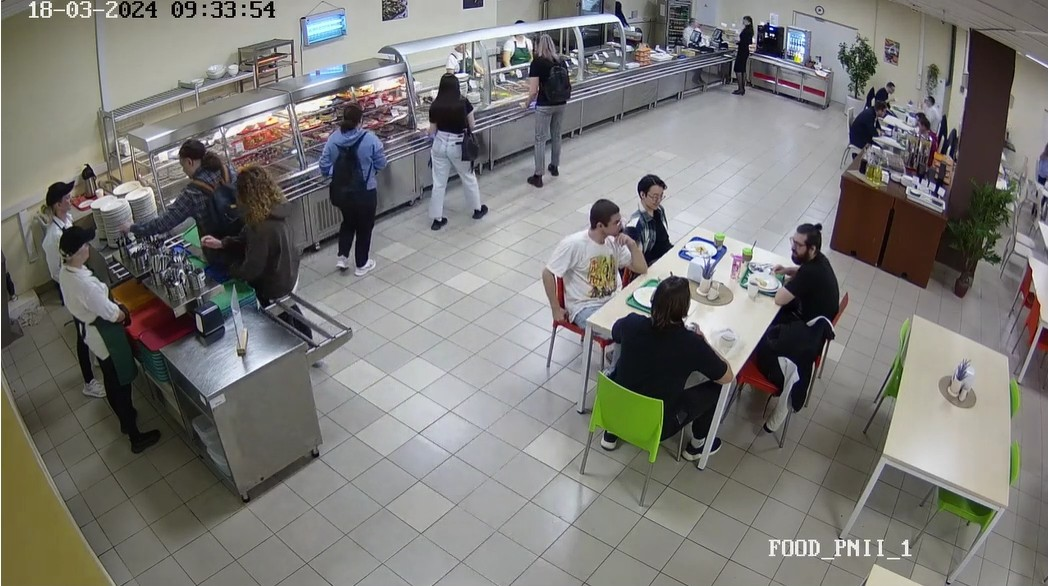Na_Kasse: (734, 12, 755, 98)
Ne_v_Ocheredi: (1030, 142, 1048, 193)
Personal: (27, 224, 247, 470), (30, 174, 80, 230), (436, 28, 481, 72), (503, 17, 530, 64), (679, 13, 706, 44)
Vybiraet: (216, 170, 340, 361), (133, 137, 237, 267), (421, 63, 489, 232), (323, 100, 378, 272), (521, 36, 568, 190)
Za_Stolom: (563, 273, 740, 477), (537, 193, 644, 376), (767, 216, 845, 330), (629, 174, 679, 256), (854, 93, 885, 156), (910, 114, 943, 156), (873, 72, 899, 110), (917, 90, 940, 112)
